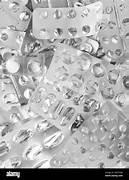pill_Strip: (0, 107, 59, 167), (1, 116, 66, 166), (50, 121, 118, 167), (29, 83, 88, 133), (30, 80, 88, 130), (46, 44, 97, 98), (0, 117, 52, 167), (46, 44, 100, 91), (4, 52, 52, 103), (33, 2, 101, 38), (46, 44, 92, 91), (3, 55, 45, 104), (50, 141, 117, 167), (50, 143, 118, 167), (3, 56, 34, 104), (0, 106, 42, 140), (98, 0, 123, 57), (98, 61, 127, 110), (104, 103, 128, 162), (46, 44, 82, 81), (84, 102, 117, 142), (104, 63, 128, 116), (21, 23, 60, 55), (0, 143, 51, 167), (86, 101, 117, 140), (50, 132, 81, 167), (91, 101, 117, 141), (103, 56, 128, 95), (109, 111, 128, 161), (3, 54, 44, 76), (21, 32, 59, 55), (0, 1, 30, 30), (76, 69, 102, 102), (0, 153, 51, 168), (112, 0, 127, 51), (10, 75, 34, 105), (21, 23, 44, 54), (23, 142, 51, 167), (115, 0, 128, 51), (113, 0, 126, 51), (80, 73, 102, 102), (62, 37, 99, 54), (103, 61, 122, 93), (0, 106, 29, 126), (0, 79, 19, 109), (22, 54, 46, 77), (23, 53, 46, 77), (21, 31, 43, 54), (42, 126, 64, 149), (3, 54, 27, 75), (0, 29, 24, 50), (113, 0, 127, 35), (0, 108, 15, 140), (118, 69, 128, 116), (63, 37, 92, 53), (72, 37, 99, 54), (99, 76, 118, 100), (14, 104, 37, 123), (39, 43, 54, 69), (113, 90, 128, 115), (10, 75, 23, 103), (32, 0, 72, 9), (0, 7, 17, 27), (23, 143, 42, 159), (0, 47, 19, 63), (13, 128, 33, 143), (81, 38, 99, 54), (113, 0, 121, 34), (71, 114, 84, 133), (35, 118, 52, 132), (116, 51, 128, 69), (119, 69, 128, 93), (33, 157, 50, 168), (68, 0, 98, 6), (69, 0, 98, 6), (70, 0, 98, 6), (31, 0, 48, 9), (48, 0, 68, 7), (121, 96, 128, 115), (0, 141, 9, 155), (0, 107, 7, 122), (8, 0, 27, 5), (71, 0, 86, 6), (96, 47, 104, 58), (25, 1, 32, 11), (67, 0, 77, 6), (82, 0, 97, 4), (87, 118, 91, 126)
